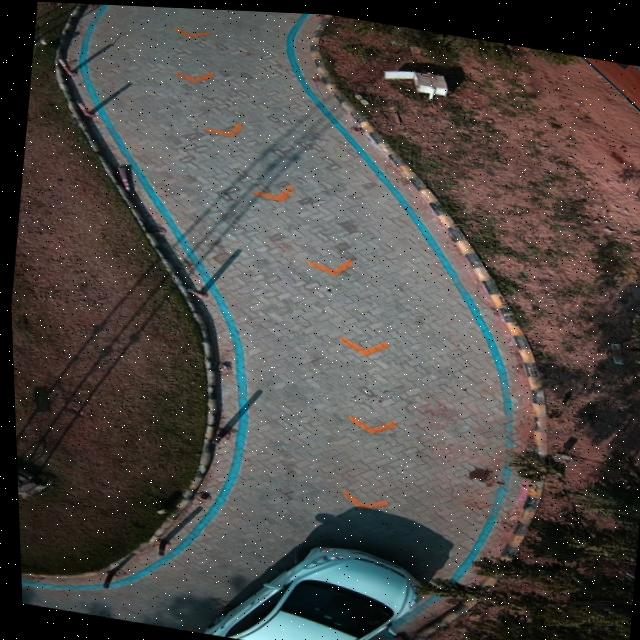car: (200, 543, 414, 640)
